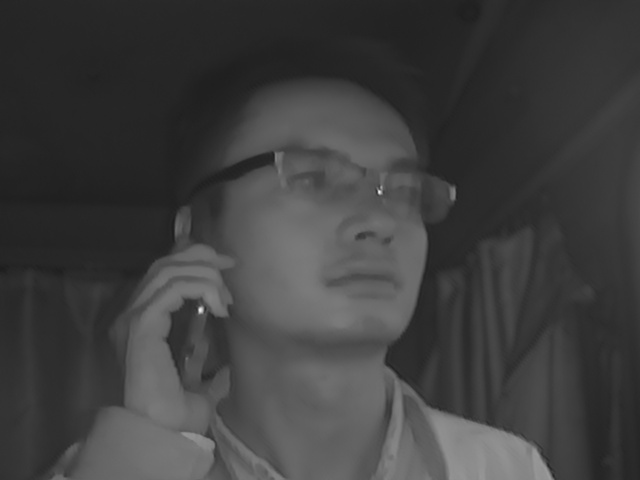hand: (108, 241, 234, 422)
